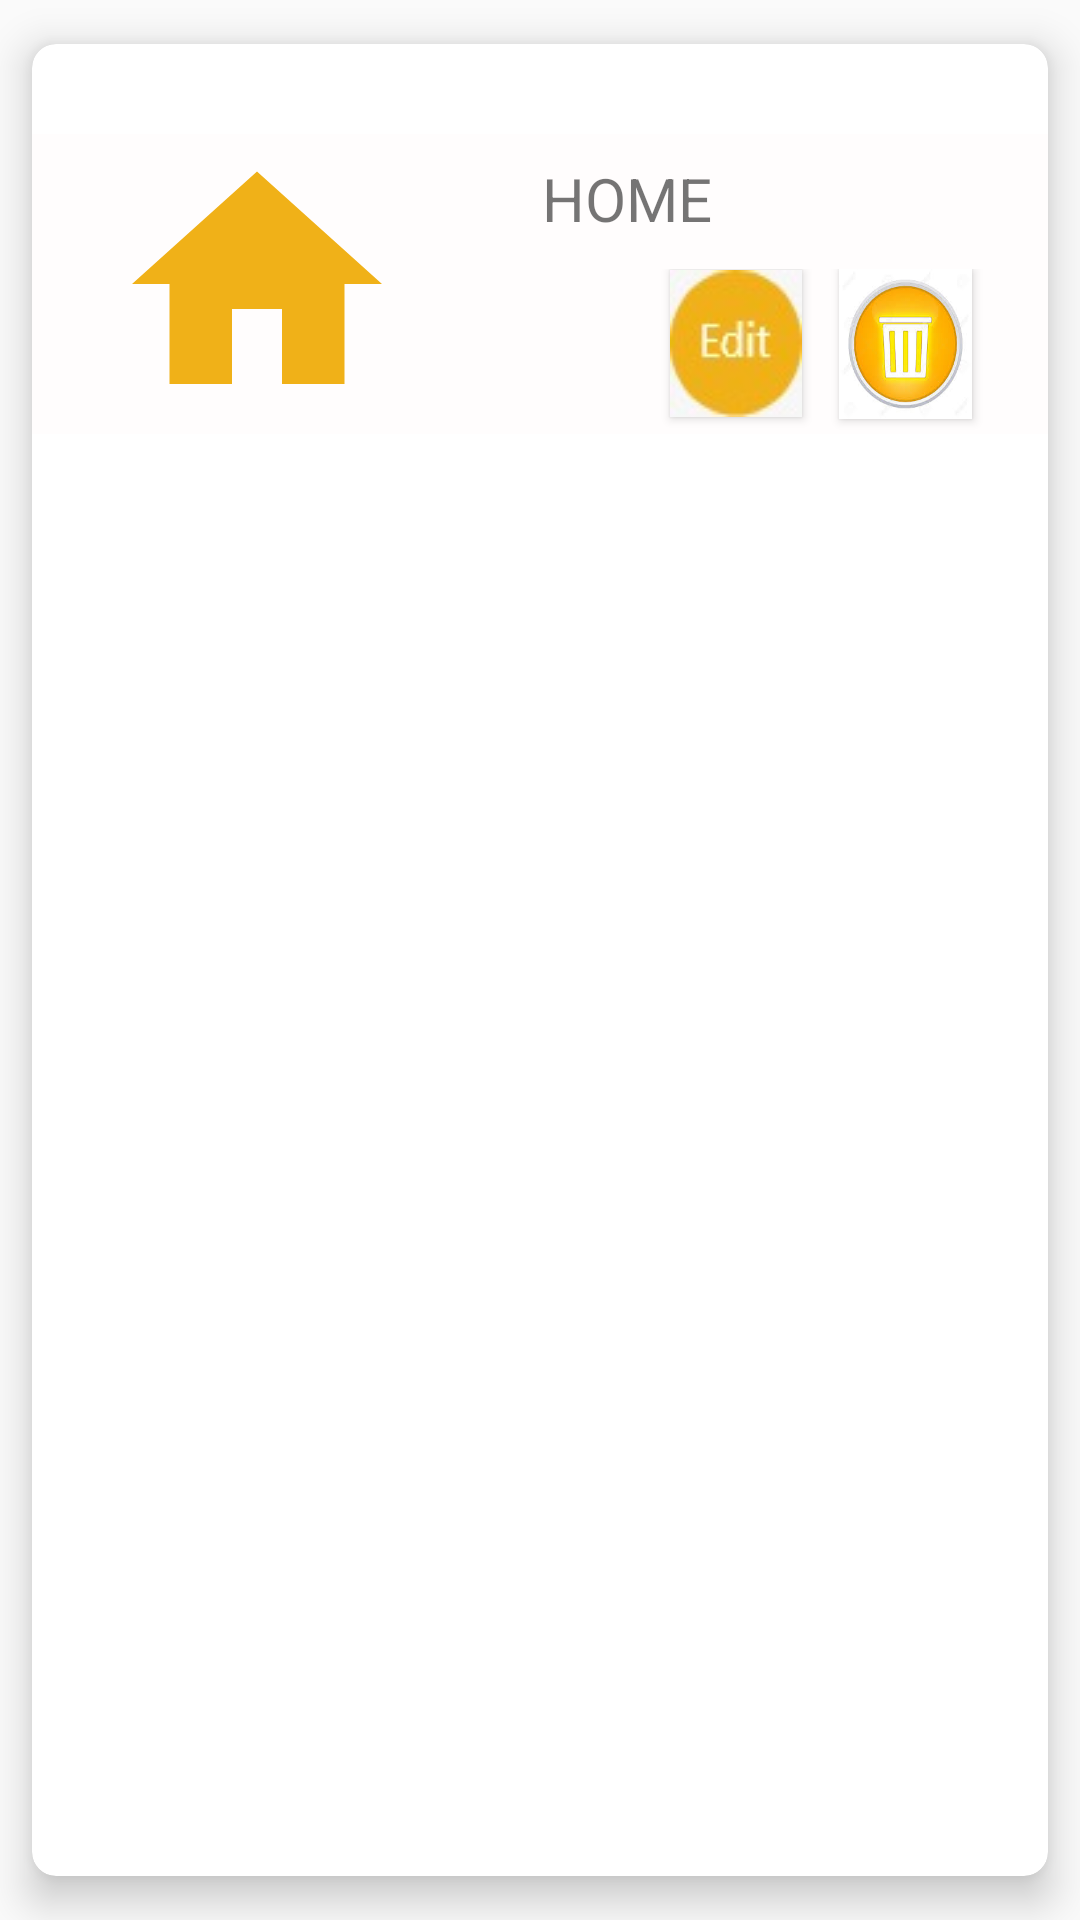

Where icons sit on this 1080*1920 app screen, as detection(x1, y1, x2, y2):
del: detection(848, 280, 963, 408)
